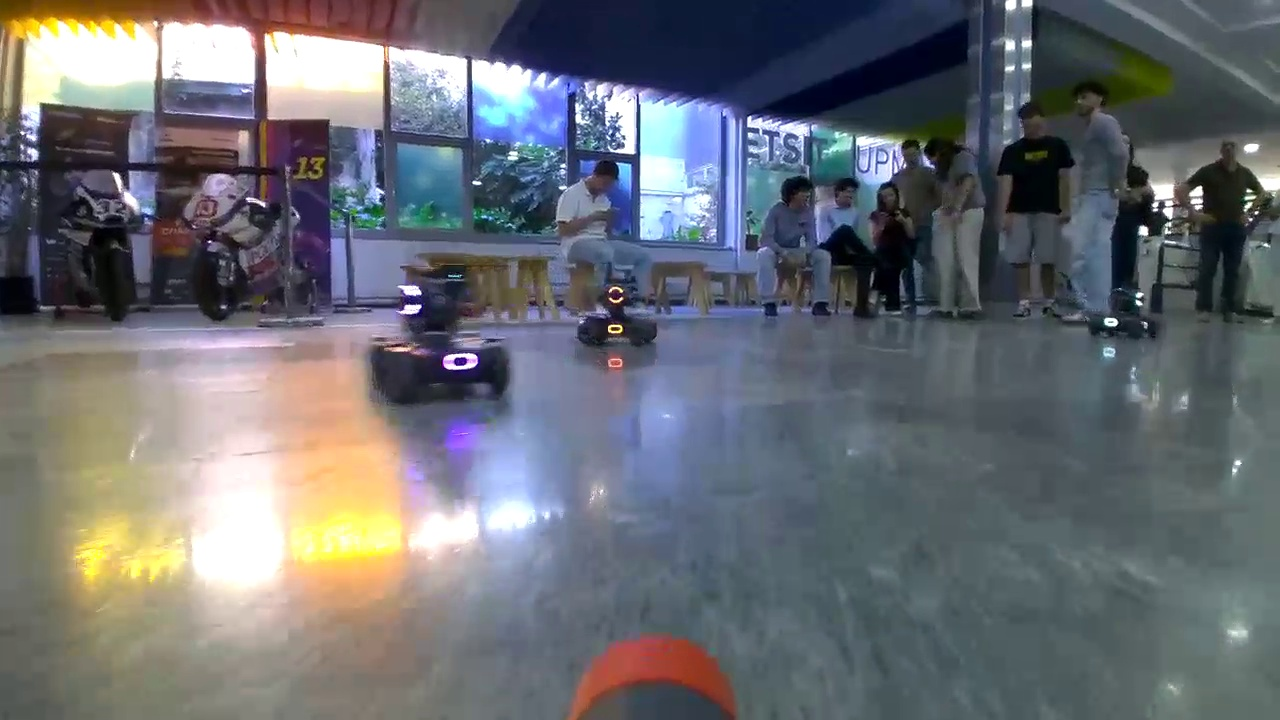robot: (368, 272, 510, 400), (575, 282, 652, 345), (1085, 287, 1160, 338)
